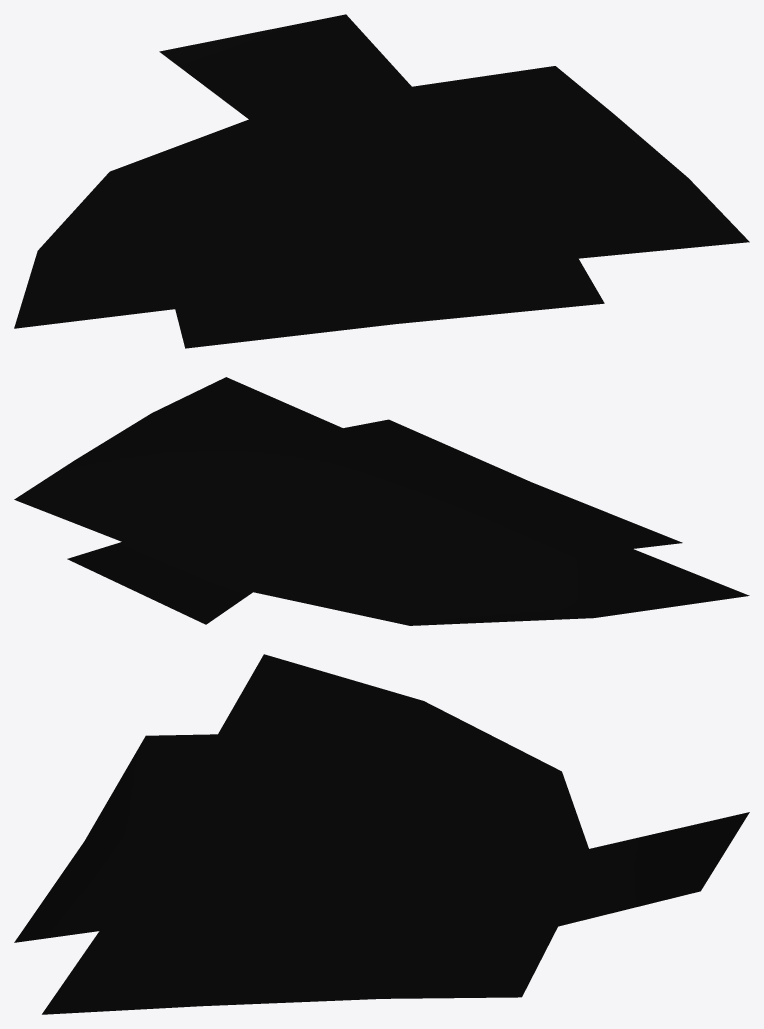
File: HTOWN01_TREESHADOWS31.fbx
3 views of the same model, one above another, from view 1: azimuth 30°, elevation 25°; view 2: azimuth 150°, elevation 25°; view 3: azimuth 270°, elevation 25° (orthographic). The views are drawn at different scales.
Visible parts, largest first — view 1: HTOWN01_TREESHADOWS31; view 2: HTOWN01_TREESHADOWS31; view 3: HTOWN01_TREESHADOWS31.
Boxes of the visible parts, bbox=[...] form: HTOWN01_TREESHADOWS31: bbox=[14, 14, 749, 348]; HTOWN01_TREESHADOWS31: bbox=[14, 377, 749, 625]; HTOWN01_TREESHADOWS31: bbox=[14, 654, 749, 1014].
Bounding box in the file's own units: 233059 × 21487 × 196504.
1 material, 1 textured.
